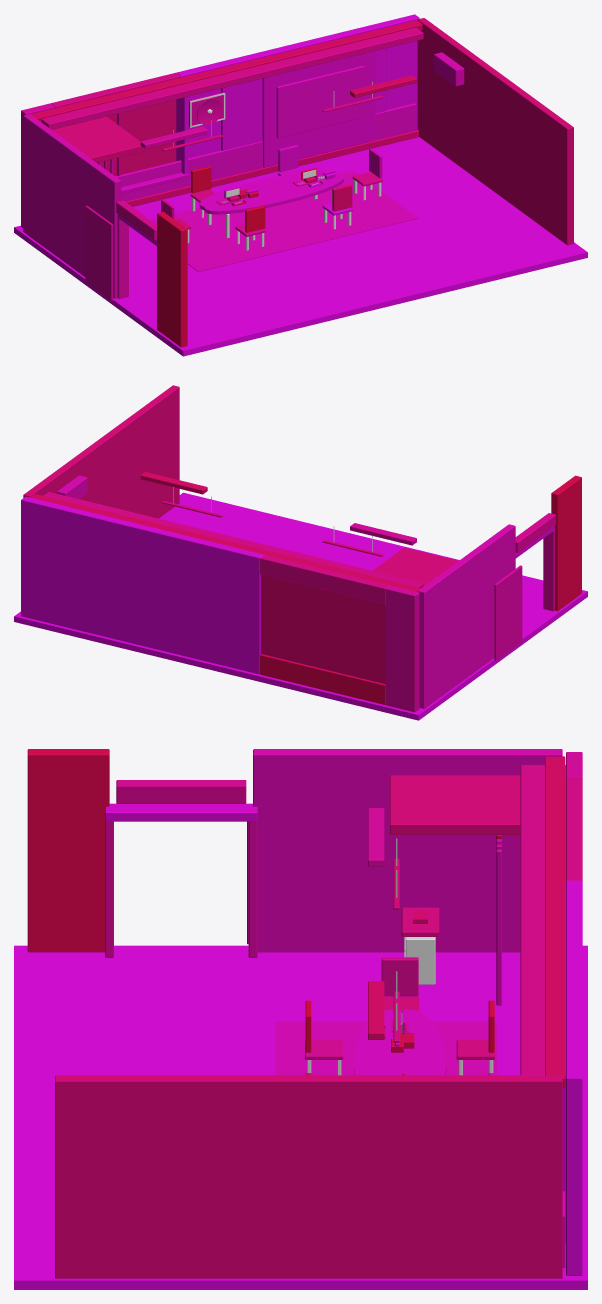
Rendered from court_chapter_15.glb.
3 views of the same model, one above another, from view 1: azimuth 30°, elevation 25°; view 2: azimuth 150°, elevation 25°; view 3: azimuth 270°, elevation 25° (orthographic). The views are drawn at different scales.
Parts seen in each view (by area): view 1: Floor, WallRight, WallLeftRear, ConferenceCarpet, BriefingWall, CeilingPerimeterRear, BriefingDisplay, WallBackPier_end, Wainscot, WallLeftFront, BriefingBackdrop, CorniceRear (+21 smaller); view 2: WallBackPier_end, Floor, WallLeftRear, Glazing_0, WallRight, WallBackPier_0, WallLeftFront, WallBackLow_0, WallBackHigh_0, CeilingPerimeterRear, OpenDoorLeaf, CorniceRear (+6 smaller); view 3: WallRight, Floor, WallLeftRear, WallLeftFront, CeilingPerimeterRear, ReceptionSoffit, CorniceRear, WallBackPier_end, ConferenceCarpet, CouncilTable, DoorLintel, EntranceHeader (+10 smaller).
Part boxes in pixels (box(x1,y1,x2,y2)): Floor: box(14, 137, 587, 356); WallRight: box(417, 18, 573, 245); WallLeftRear: box(23, 114, 121, 298); ConferenceCarpet: box(150, 170, 418, 271); BriefingWall: box(262, 51, 375, 167); CeilingPerimeterRear: box(41, 27, 423, 129); BriefingDisplay: box(276, 65, 364, 138); WallBackPier_end: box(176, 14, 419, 158); Wainscot: box(115, 103, 416, 201); WallLeftFront: box(157, 212, 187, 347); BriefingBackdrop: box(221, 48, 386, 150); CorniceRear: box(31, 20, 422, 122); WallBackPier_end: box(21, 496, 263, 674); Floor: box(14, 492, 587, 720); WallLeftRear: box(417, 524, 515, 708); Glazing_0: box(261, 575, 385, 683); WallRight: box(23, 385, 179, 518); WallBackPier_0: box(385, 585, 419, 712); WallLeftFront: box(551, 475, 581, 611); WallBackLow_0: box(260, 654, 385, 704); WallBackHigh_0: box(260, 555, 389, 604); CeilingPerimeterRear: box(43, 492, 423, 587); OpenDoorLeaf: box(494, 565, 522, 660); CorniceRear: box(30, 494, 421, 591); WallRight: box(55, 1075, 562, 1278); Floor: box(14, 945, 587, 1289); WallLeftRear: box(253, 749, 562, 952); WallLeftFront: box(27, 749, 109, 952); CeilingPerimeterRear: box(520, 765, 565, 1085); ReceptionSoffit: box(390, 775, 520, 834); CorniceRear: box(545, 756, 565, 1088); WallBackPier_end: box(566, 880, 582, 1275); ConferenceCarpet: box(275, 1021, 497, 1075); CouncilTable: box(354, 1009, 446, 1075); DoorLintel: box(116, 780, 246, 803); EntranceHeader: box(105, 803, 257, 821).
Bounding box in the file's own units: 11.7 × 3.35 × 8.4.
